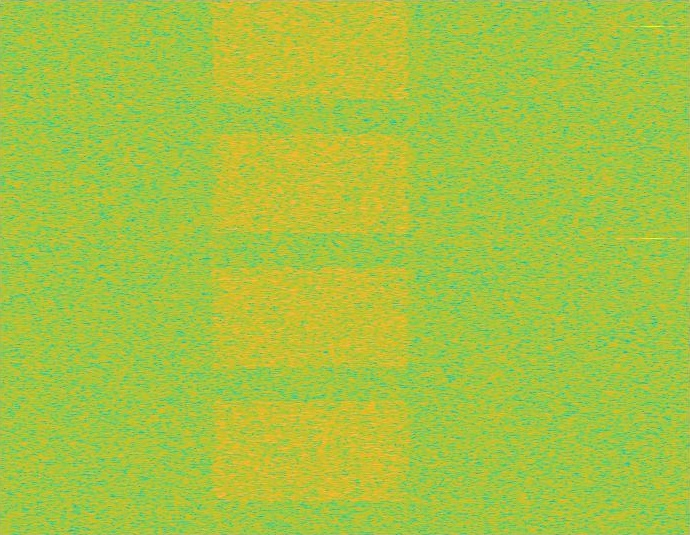5G: (207, 0, 414, 534)
Radar: (646, 0, 660, 534)
